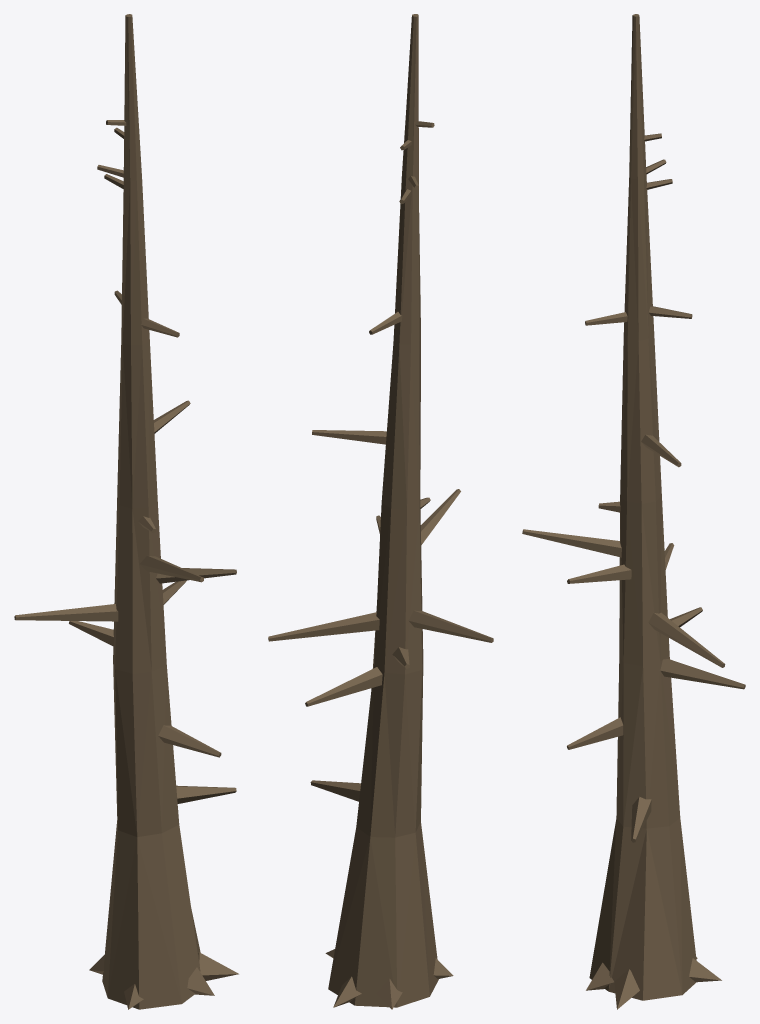
File: HS_LP_Tree_DeadPine_01.fbx
3 views of the same model, side by side, from view 1: azimuth 30°, elevation 25°; view 2: azimuth 150°, elevation 25°; view 3: azimuth 270°, elevation 25° (orthographic). The views are drawn at different scales.
Visible parts, largest first — view 1: HS_LP_Tree_DeadPine_01; view 2: HS_LP_Tree_DeadPine_01; view 3: HS_LP_Tree_DeadPine_01.
Boxes of the visible parts, bbox=[...] form: HS_LP_Tree_DeadPine_01: bbox=[14, 14, 238, 1009]; HS_LP_Tree_DeadPine_01: bbox=[268, 14, 493, 1009]; HS_LP_Tree_DeadPine_01: bbox=[522, 14, 745, 1009].
Bounding box in the file's own units: 131 × 607 × 129.
